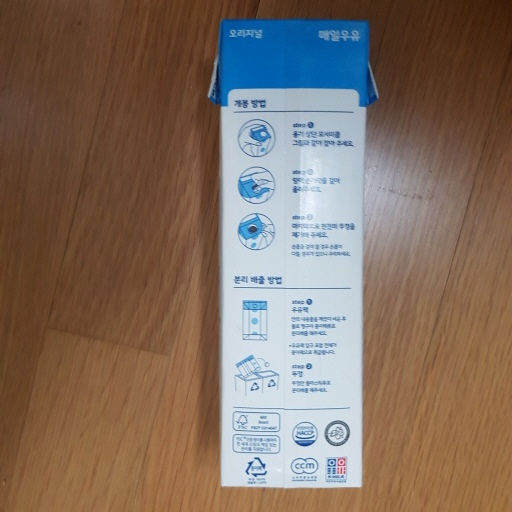Paper_0: (202, 13, 382, 496)
